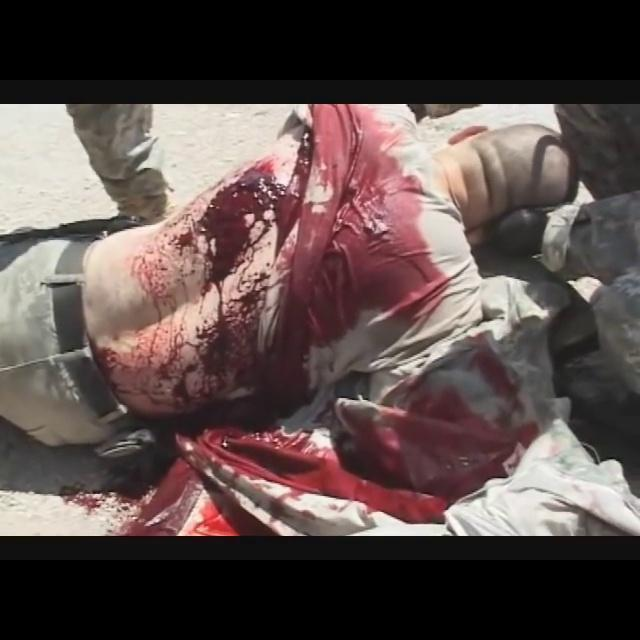blood: (100, 105, 450, 414), (335, 334, 540, 502), (197, 429, 449, 524), (176, 435, 376, 536), (60, 448, 273, 536), (138, 459, 199, 524)
